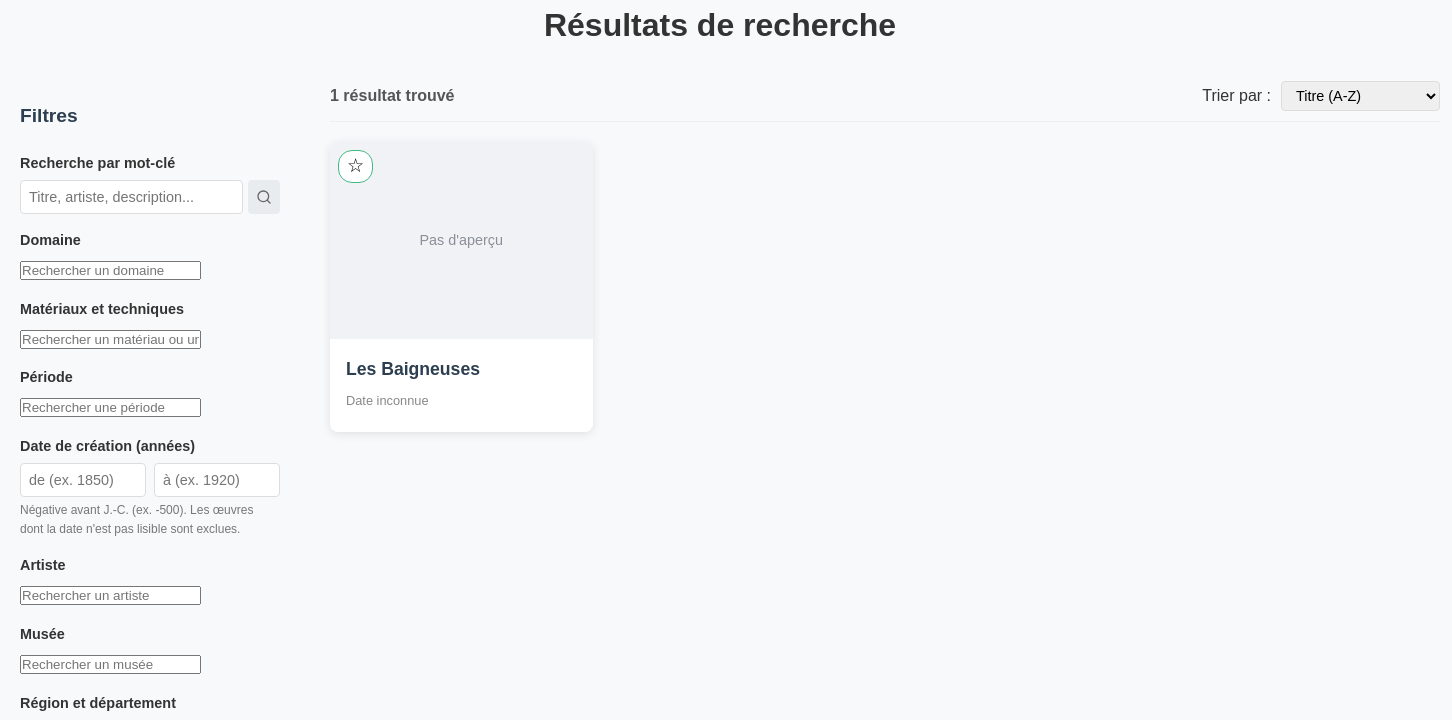
Test: SearchView : filtres avancés › plage d'années de création › refuse une plage à l'envers : message, et aucune recherche de plus
In the field with test id "year-from": coordinates (83, 480) [20,463,146,497], type "1920"
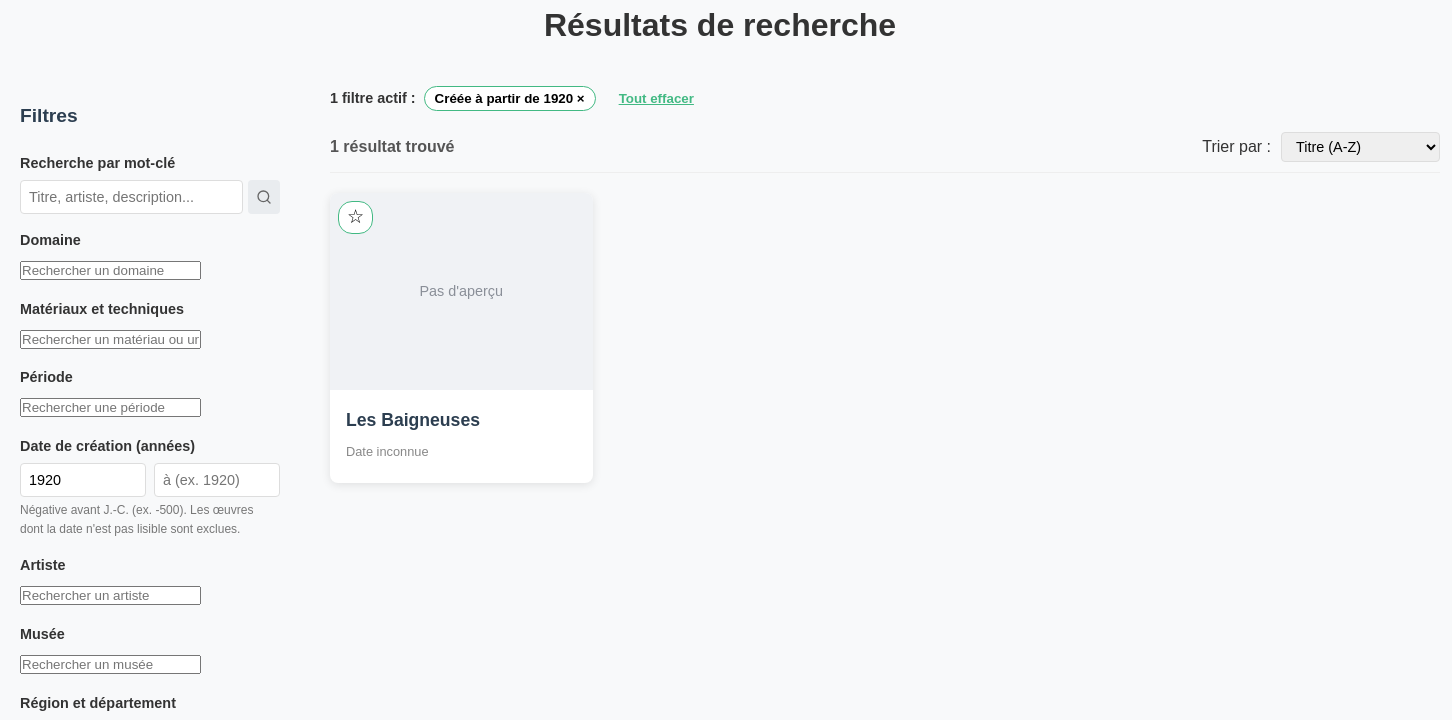
In the field with test id "year-to": coordinates (217, 480) [154,463,280,497], type "1850"
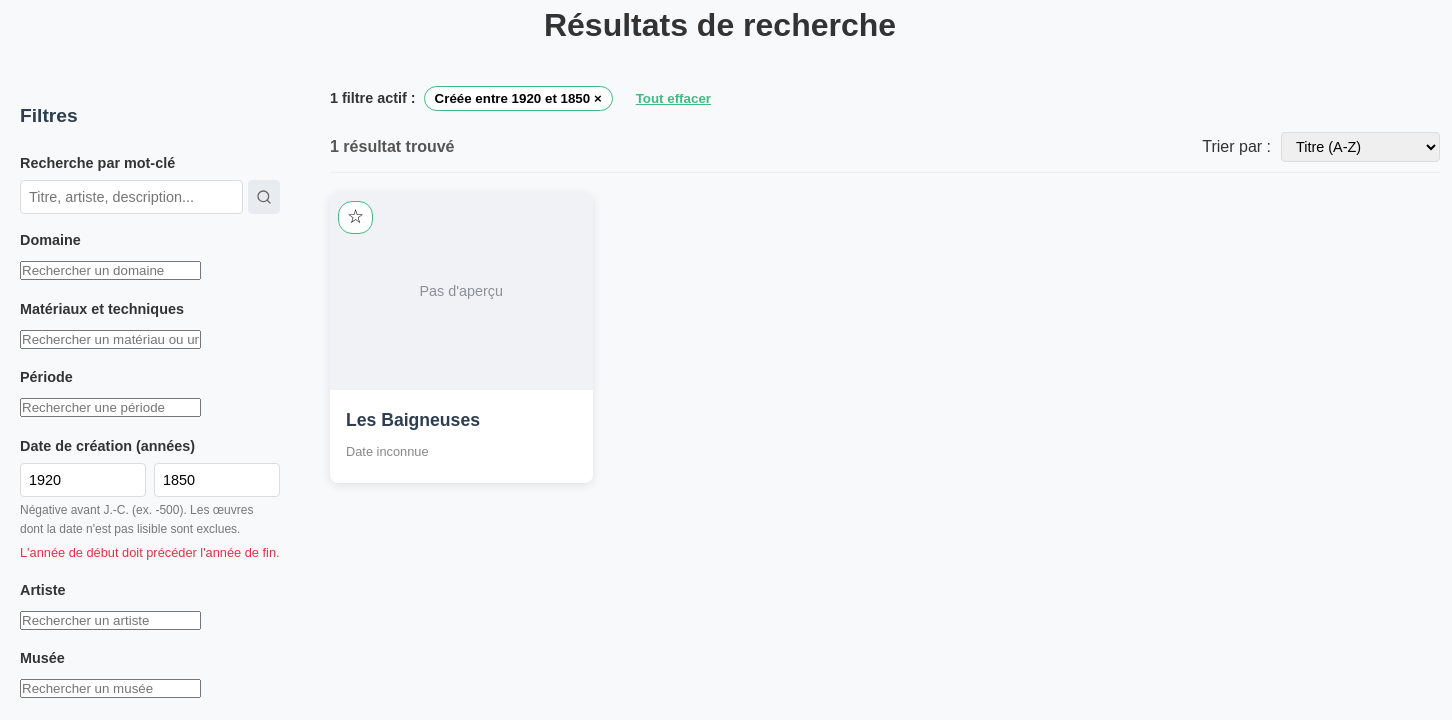
expect the message with test id "year-error" shows "L'année de début doit précéder": met, box [20,545,280,560]
